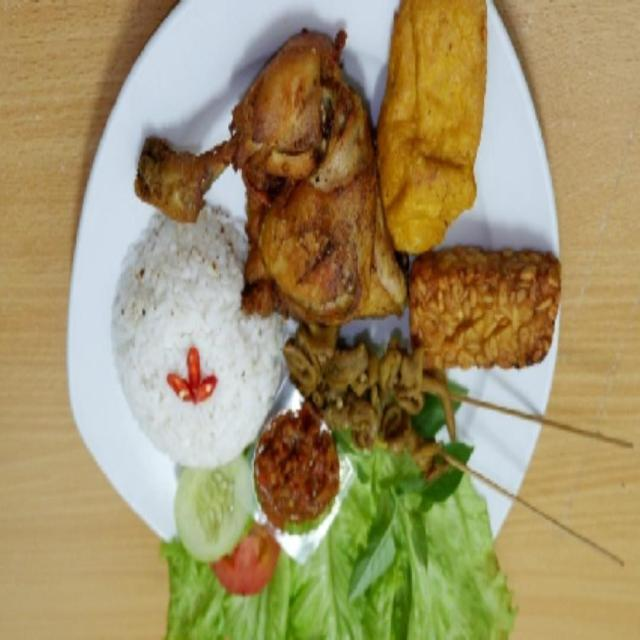ayam_goreng: (130, 43, 403, 310)
nasi_putih: (105, 217, 272, 471)
